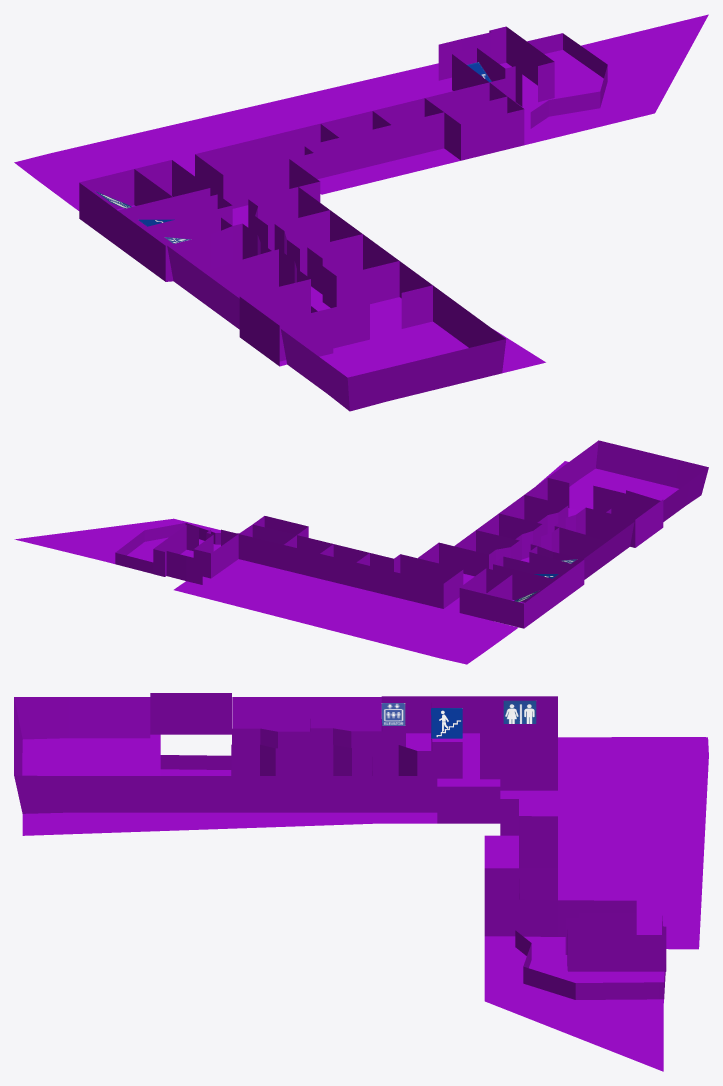
The model's file is piso7.glb.
3 views of the same model, one above another, from view 1: azimuth 30°, elevation 25°; view 2: azimuth 150°, elevation 25°; view 3: azimuth 270°, elevation 25° (orthographic). The views are drawn at different scales.
Visible parts, largest first — view 1: Plano.001; view 2: Plano.001; view 3: Plano.001.
Part boxes in pixels (box(x1,y1,x2,y2)): Plano.001: box(14, 14, 708, 411); Plano.001: box(14, 440, 708, 664); Plano.001: box(14, 693, 708, 1071).
Bounding box in the file's own units: 14.21 × 0.8335 × 12.33.
5 materials, 3 textured.
